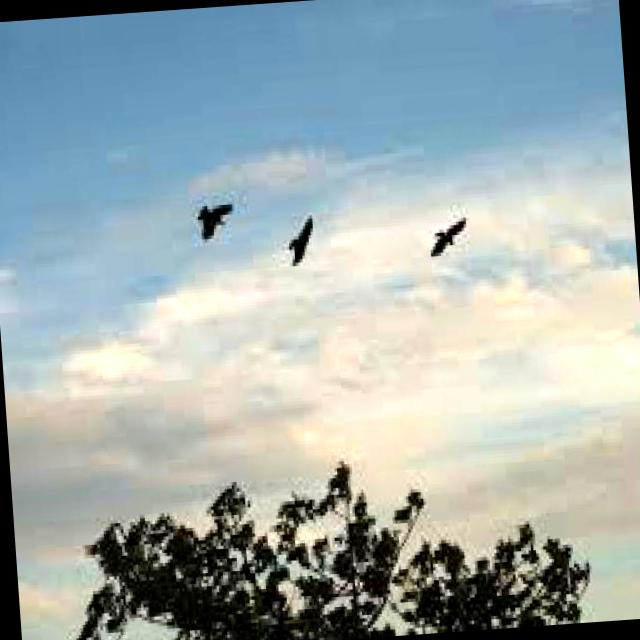bird: (272, 206, 337, 268), (187, 172, 234, 252), (418, 206, 474, 260)
